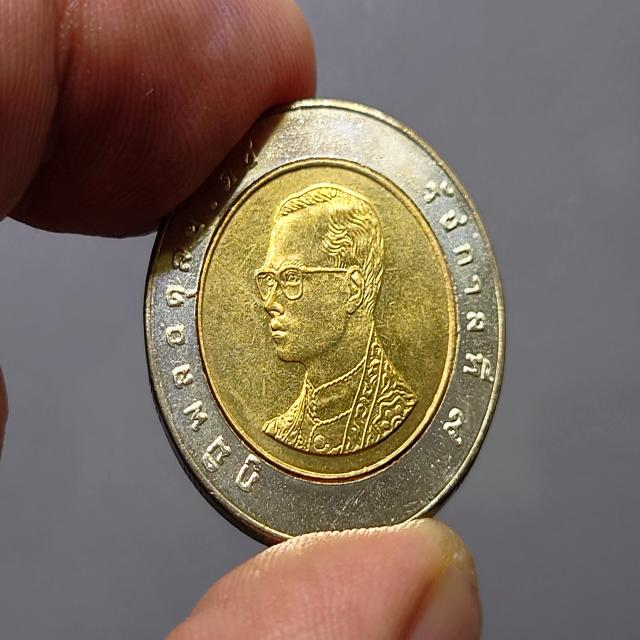10 Bath: (142, 98, 511, 553)
